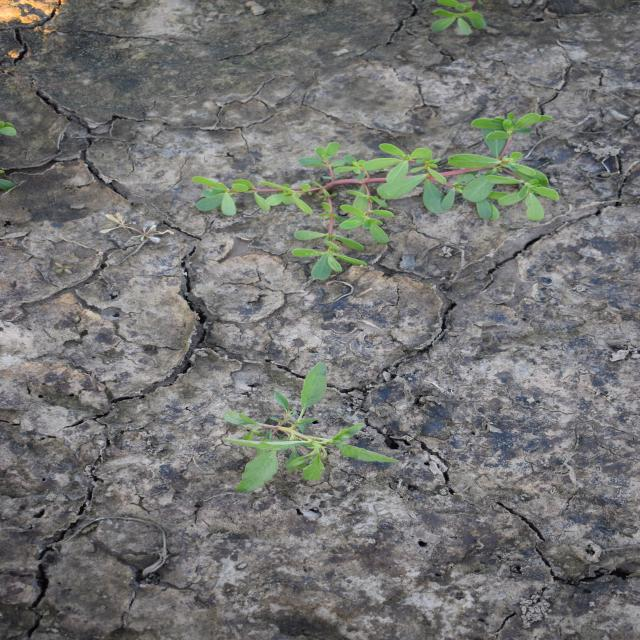Purslane: (190, 111, 564, 282), (428, 0, 489, 37)
Waterhemp: (218, 360, 404, 495)
